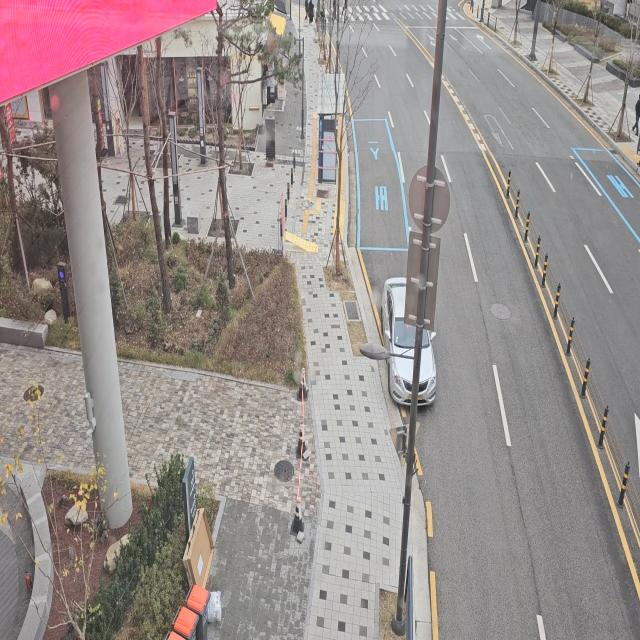Car: (376, 256, 442, 415)
